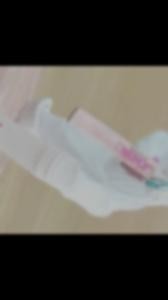batsman: (0, 91, 168, 234)
